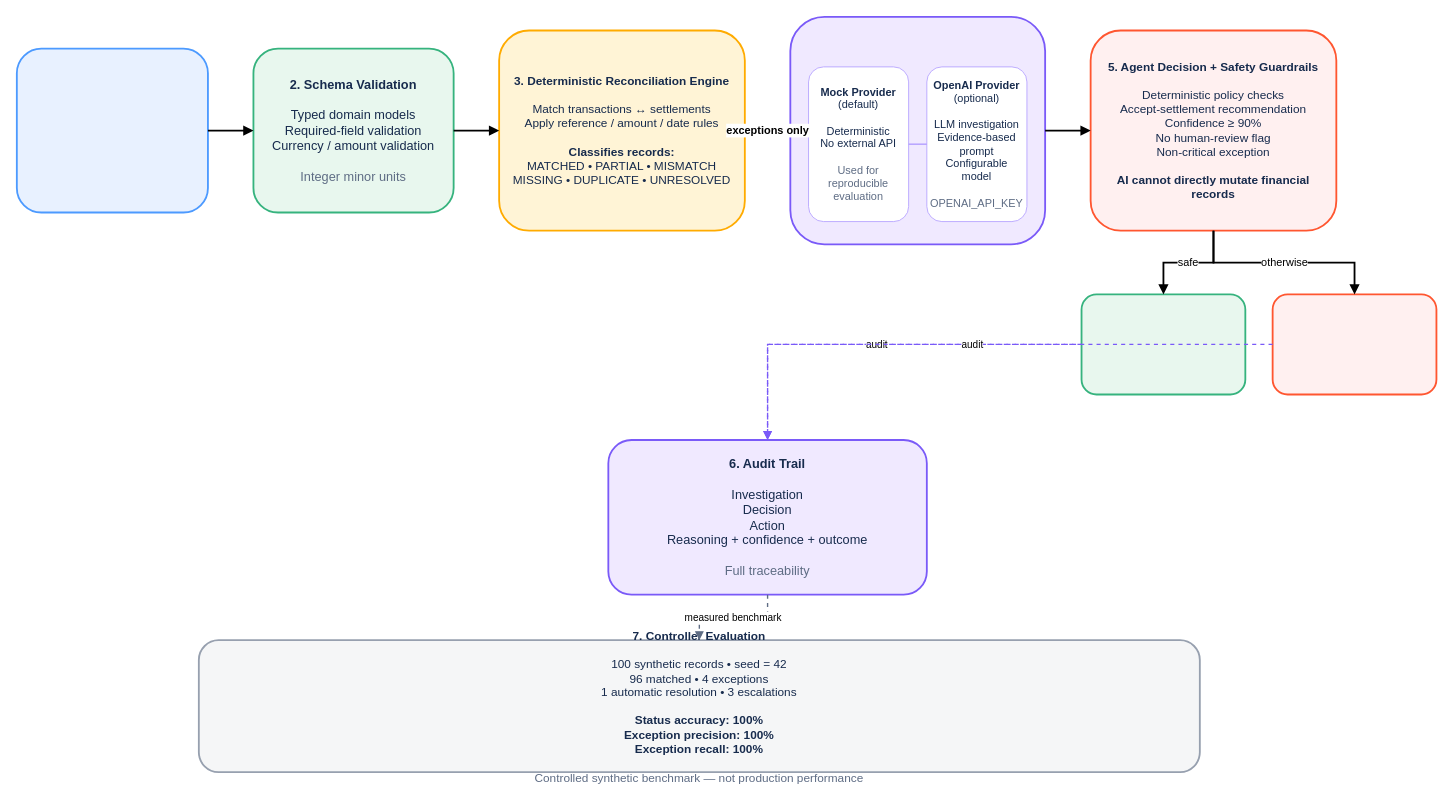
Some shapes in this 1452 by 800 pixel diagram are drawn without their labels. The shapes that lost their labels are listed below. From the top down, each one's box as (x1, y1, x2, y2) in pixels, then its label:
(15, 47, 208, 213): 1. Input Data Transactions Settlements Synthetic benchmark: 100 records
(789, 15, 1046, 245): 4. Exception Investigation Only exceptions reach this layer
(1080, 293, 1246, 395): RESOLVE Automatic resolution only when all safety conditions pass
(1271, 293, 1437, 395): ESCALATE Human review required for non-safe / uncertain cases
